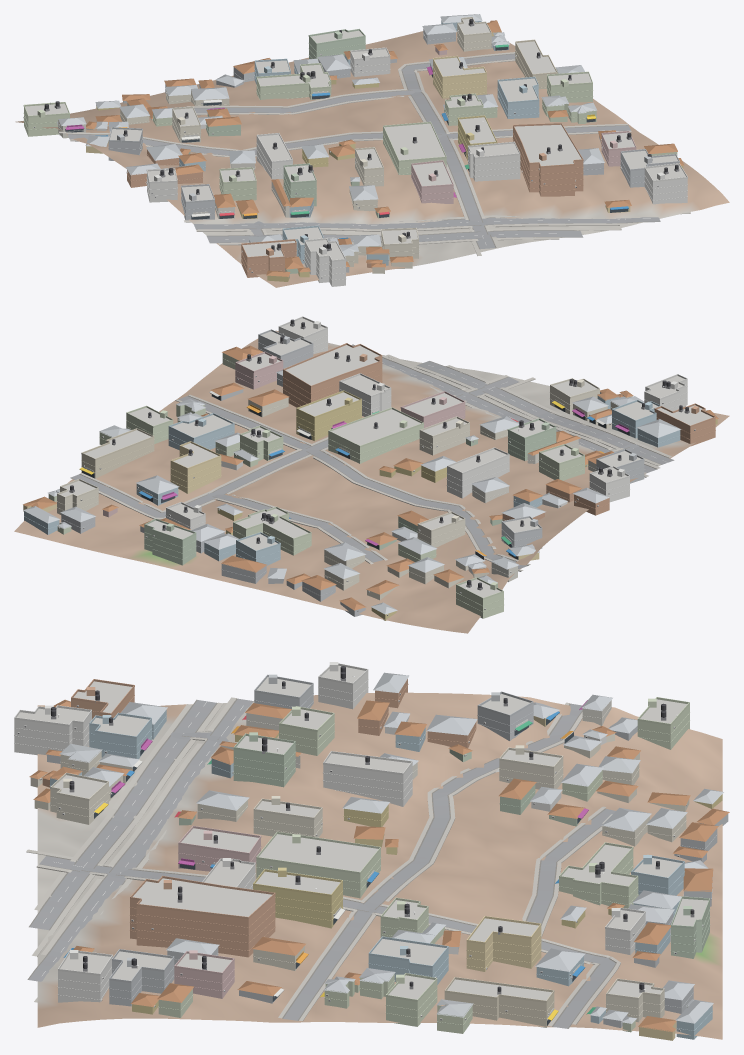
3 renders of one model, top to bottom at view 1: azimuth 30°, elevation 25°; view 2: azimuth 150°, elevation 25°; view 3: azimuth 270°, elevation 25°, orthographic. The views are drawn at different scales.
Parts seen in each view (by area): view 1: Buildings-col, Terrain-col, Details, Roads-col, Sidewalks-col; view 2: Buildings-col, Terrain-col, Details, Roads-col, Sidewalks-col; view 3: Buildings-col, Terrain-col, Details, Roads-col, Sidewalks-col.
Boxes of the visible parts, bbox=[...] form: Buildings-col: bbox=[24, 14, 687, 286]; Terrain-col: bbox=[15, 31, 729, 287]; Details: bbox=[23, 16, 687, 280]; Roads-col: bbox=[67, 53, 660, 249]; Sidewalks-col: bbox=[59, 52, 690, 255]; Buildings-col: bbox=[23, 318, 718, 620]; Terrain-col: bbox=[14, 330, 729, 633]; Details: bbox=[24, 316, 715, 615]; Roads-col: bbox=[70, 344, 674, 568]; Sidewalks-col: bbox=[80, 354, 671, 571]; Buildings-col: bbox=[14, 665, 729, 1040]; Terrain-col: bbox=[37, 692, 722, 1039]; Details: bbox=[14, 662, 717, 1031]; Roads-col: bbox=[27, 698, 616, 1028]; Sidewalks-col: bbox=[26, 697, 620, 1026].
Bounding box in the file's own units: 272 × 35.52 × 268.
